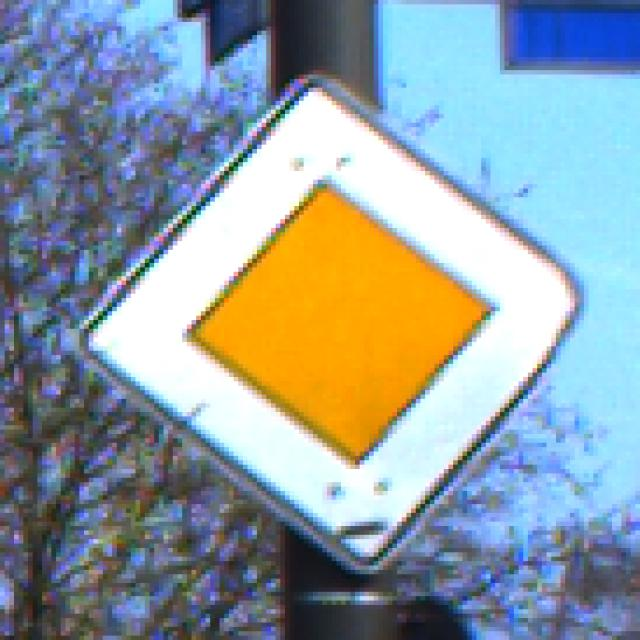Main Road: (57, 54, 590, 589)
